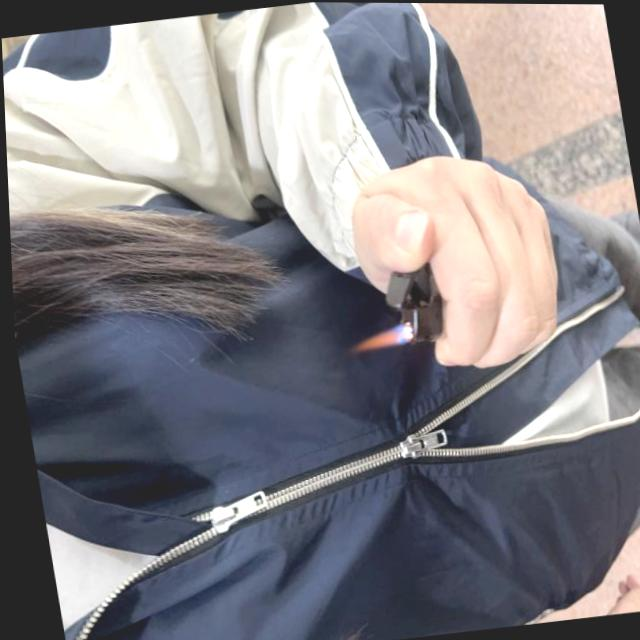Fire: (339, 322, 414, 351)
